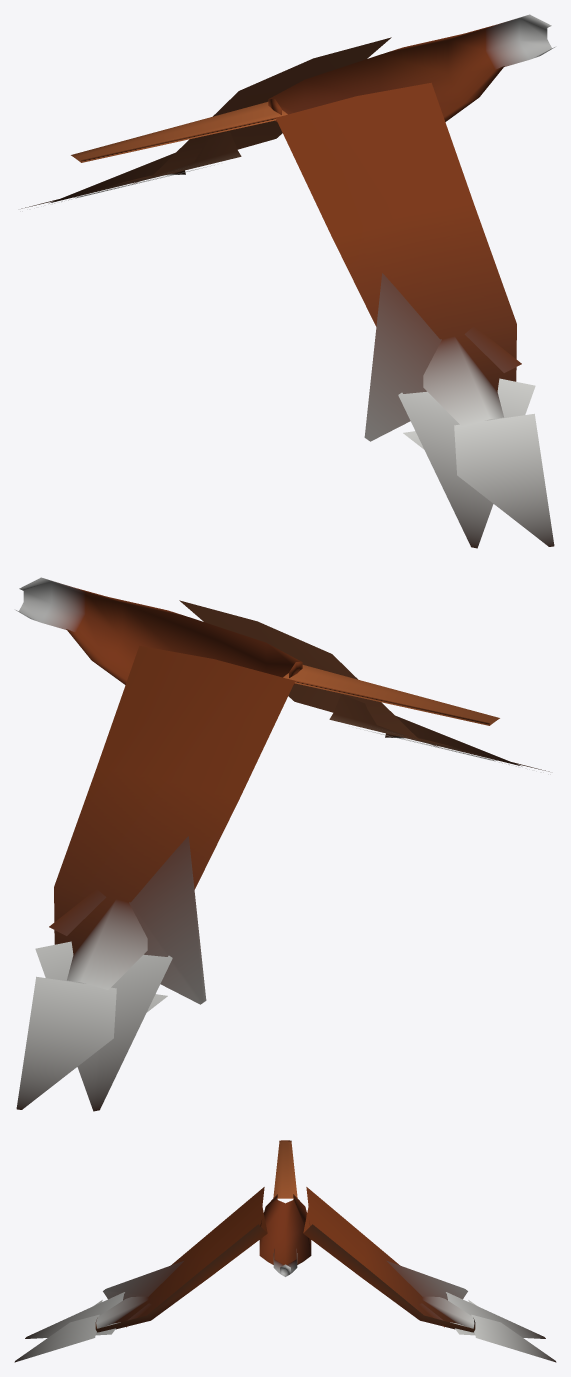
Rendered from SM_Bird_red_kite_flap2_LOD2.glb.
3 views of the same model, one above another, from view 1: azimuth 30°, elevation 25°; view 2: azimuth 150°, elevation 25°; view 3: azimuth 270°, elevation 25° (orthographic). The views are drawn at different scales.
Visible parts, largest first — view 1: SM_Bird_red_kite_flap2_LOD2; view 2: SM_Bird_red_kite_flap2_LOD2; view 3: SM_Bird_red_kite_flap2_LOD2.
Boxes of the visible parts, x1,y1,x2,y2 form: SM_Bird_red_kite_flap2_LOD2: (21, 14, 554, 548); SM_Bird_red_kite_flap2_LOD2: (16, 577, 549, 1111); SM_Bird_red_kite_flap2_LOD2: (14, 1140, 556, 1362).
Size of the model in its own units: 0.686 by 0.4194 by 1.19.
